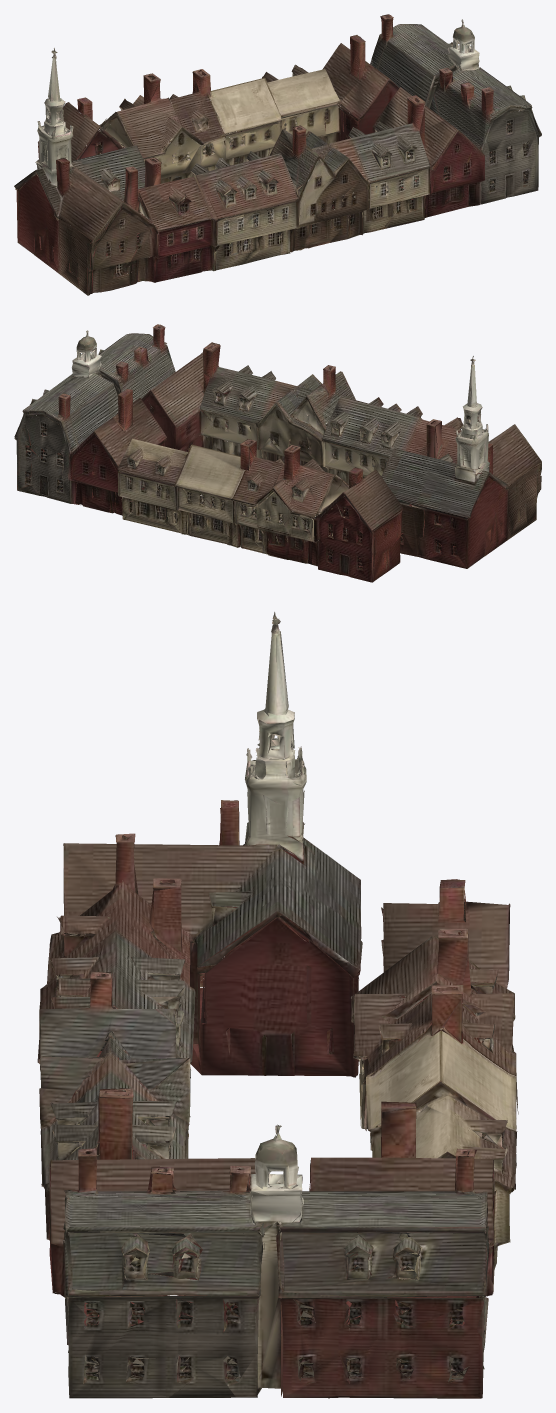
The model's file is skyline-cluster-b.glb.
3 renders of one model, top to bottom at view 1: azimuth 30°, elevation 25°; view 2: azimuth 150°, elevation 25°; view 3: azimuth 270°, elevation 25°, orthographic. The views are drawn at different scales.
Visible parts, largest first — view 1: Mesh_0; view 2: Mesh_0; view 3: Mesh_0.
Part boxes in pixels (bbox=[...]): Mesh_0: bbox=[14, 14, 541, 295]; Mesh_0: bbox=[14, 324, 541, 582]; Mesh_0: bbox=[37, 612, 518, 1398].
Size of the model in its own units: 1.9 by 0.8484 by 0.9306.
1 material, 1 textured.
